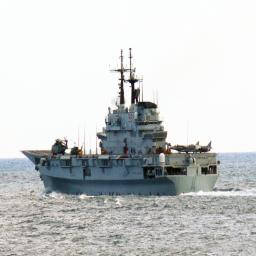Portanaves: (20, 48, 222, 198)
